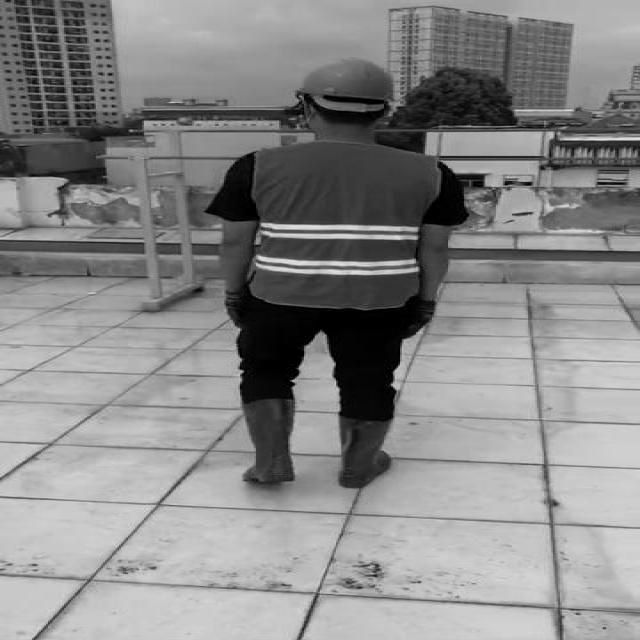boots: (240, 398, 299, 485), (336, 412, 391, 488)
hand_glove: (222, 287, 252, 329), (405, 301, 432, 340)
head_helmet: (294, 54, 396, 106)
person: (207, 54, 476, 491)
vest: (252, 140, 438, 308)
